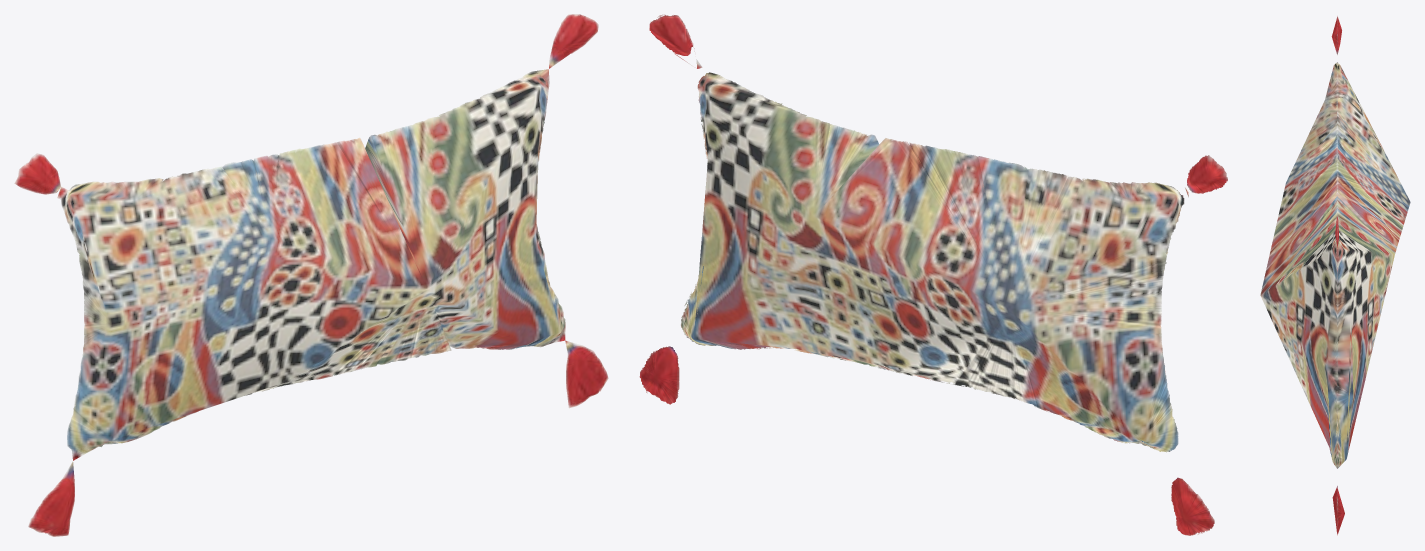
The picture shows the model from 3 angles, left to right: view 1: azimuth 30°, elevation 25°; view 2: azimuth 150°, elevation 25°; view 3: azimuth 270°, elevation 25°; orthographic projection. The views are drawn at different scales.
Parts seen in each view (by area): view 1: obj_002_obj.004_0; view 2: obj_002_obj.004_0; view 3: obj_002_obj.004_0.
Part boxes in pixels (x1,y1,x2,y2): obj_002_obj.004_0: (14, 14, 608, 536); obj_002_obj.004_0: (639, 14, 1227, 535); obj_002_obj.004_0: (1260, 16, 1410, 535).
Bounding box in the file's own units: 98.64 × 63.31 × 26.87.
Materials: 1 (1 with a texture image).
